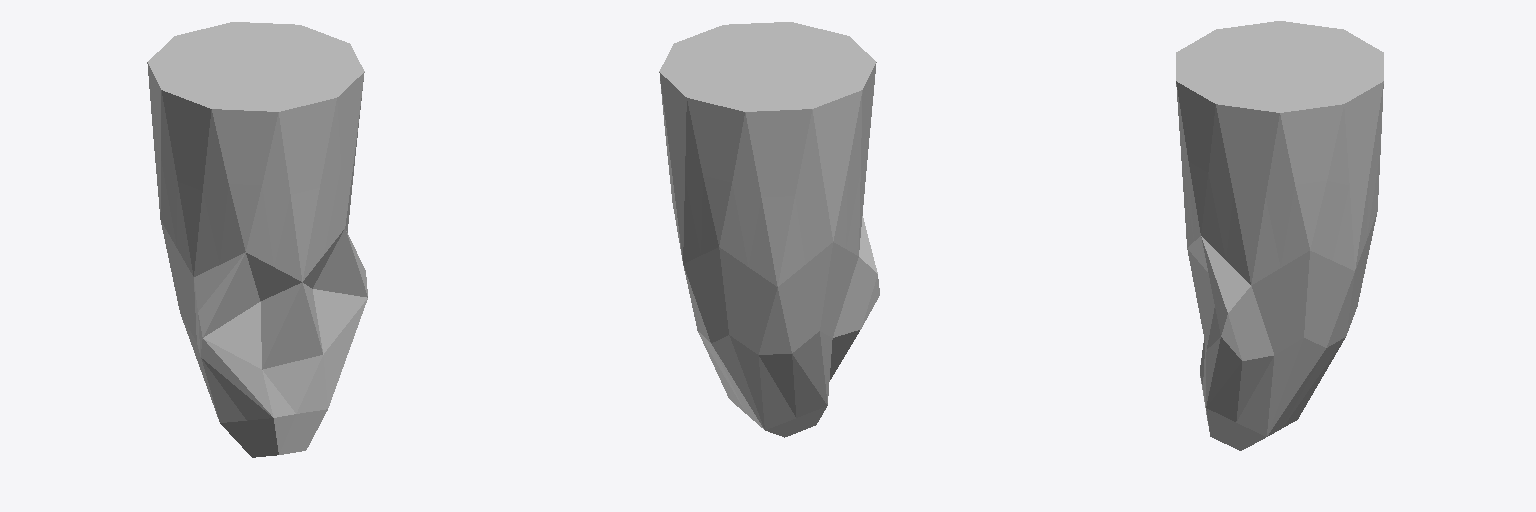
File: tiki_inverted.obj
The picture shows the model from 3 angles: view 1: azimuth 30°, elevation 25°; view 2: azimuth 150°, elevation 25°; view 3: azimuth 270°, elevation 25°; orthographic projection.
Visible parts, largest first — view 1: Icosphere; view 2: Icosphere; view 3: Icosphere.
Boxes of the visible parts, <box> form: Icosphere: <box>147,22,367,457</box>; Icosphere: <box>659,22,879,437</box>; Icosphere: <box>1176,21,1383,450</box>.
Size of the model in its own units: 1.29 by 2.47 by 1.23.